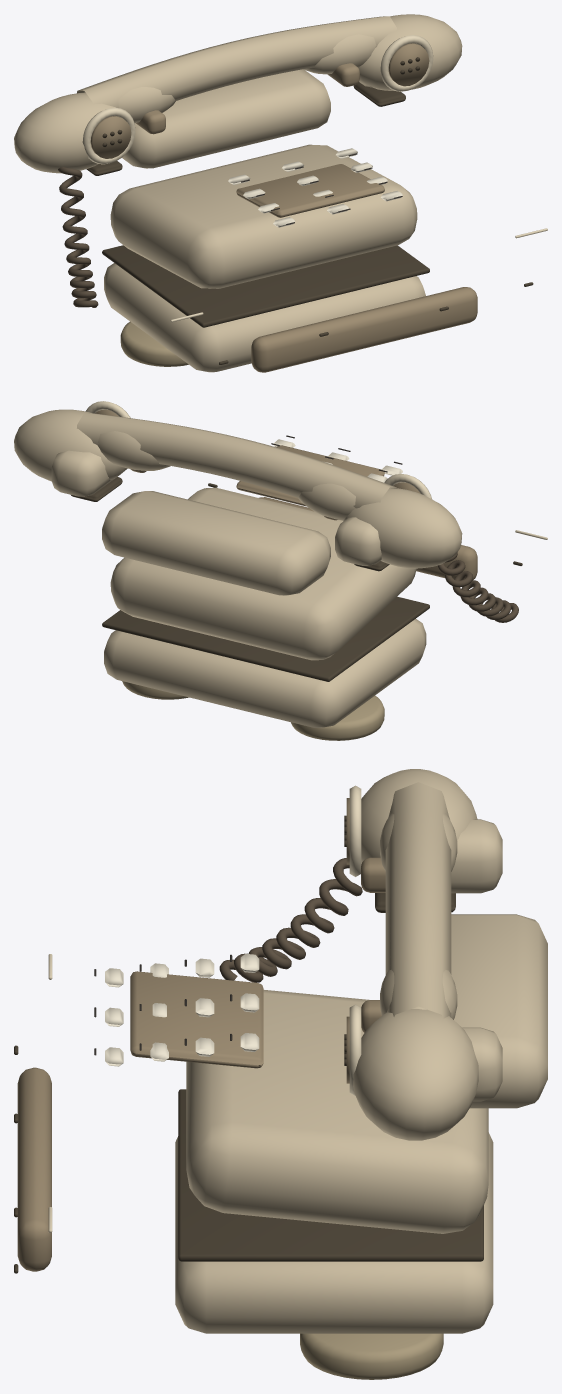
3 views of the same model, one above another, from view 1: azimuth 30°, elevation 25°; view 2: azimuth 150°, elevation 25°; view 3: azimuth 270°, elevation 25° (orthographic). The views are drawn at different scales.
Parts seen in each view (by area): view 1: base_shell, rear_cradle_plinth, base_lower, base_shell_shadow_seam, receiver_continuous_grip, front_lip, receiver, receiver_pod_-1, keypad_recess, coiled_cord, bell_-1, receiver_cap_-1 (+5 smaller); view 2: base_shell, base_lower, rear_cradle_plinth, receiver_continuous_grip, base_shell_shadow_seam, receiver_pod_-1, receiver, cradle_1, coiled_cord, bell_-1, cradle_-1, receiver_neck_-1 (+4 smaller); view 3: base_shell, base_lower, receiver, rear_cradle_plinth, receiver_continuous_grip, base_shell_shadow_seam, keypad_recess, front_lip, bell_1, coiled_cord, receiver_pod_-1, cradle_-1 (+4 smaller).
Boxes of the visible parts, <box> form: base_shell: <box>110,144,417,288</box>; rear_cradle_plinth: <box>122,69,330,168</box>; base_lower: <box>104,263,425,372</box>; base_shell_shadow_seam: <box>102,245,429,327</box>; receiver_continuous_grip: <box>77,16,396,108</box>; front_lip: <box>251,287,477,372</box>; receiver: <box>102,14,462,146</box>; receiver_pod_-1: <box>14,92,115,173</box>; keypad_recess: <box>236,164,384,217</box>; coiled_cord: <box>58,167,98,307</box>; bell_-1: <box>120,321,188,366</box>; receiver_cap_-1: <box>90,116,131,158</box>; base_shell: <box>110,487,416,660</box>; base_lower: <box>104,619,426,727</box>; rear_cradle_plinth: <box>102,491,330,595</box>; receiver_continuous_grip: <box>77,413,396,508</box>; base_shell_shadow_seam: <box>102,596,429,681</box>; receiver_pod_-1: <box>343,488,462,568</box>; receiver: <box>14,401,170,481</box>; cradle_1: <box>51,450,113,496</box>; coiled_cord: <box>437,552,518,622</box>; bell_-1: <box>291,695,384,740</box>; cradle_-1: <box>335,517,381,565</box>; receiver_neck_-1: <box>298,483,355,520</box>; base_shell: <box>186,990,488,1233</box>; base_lower: <box>175,1132,493,1333</box>; receiver: <box>344,815,478,1140</box>; rear_cradle_plinth: <box>451,914,547,1108</box>; receiver_continuous_grip: <box>385,782,451,1018</box>; base_shell_shadow_seam: <box>178,1089,483,1261</box>; keypad_recess: <box>130,971,263,1068</box>; front_lip: <box>17,1067,51,1271</box>; bell_1: <box>300,1333,443,1379</box>; coiled_cord: <box>219,858,362,982</box>; receiver_pod_-1: <box>361,769,477,863</box>; cradle_-1: <box>451,819,502,893</box>.
Size of the model in its own units: 0.2456 by 0.1465 by 0.1712.
